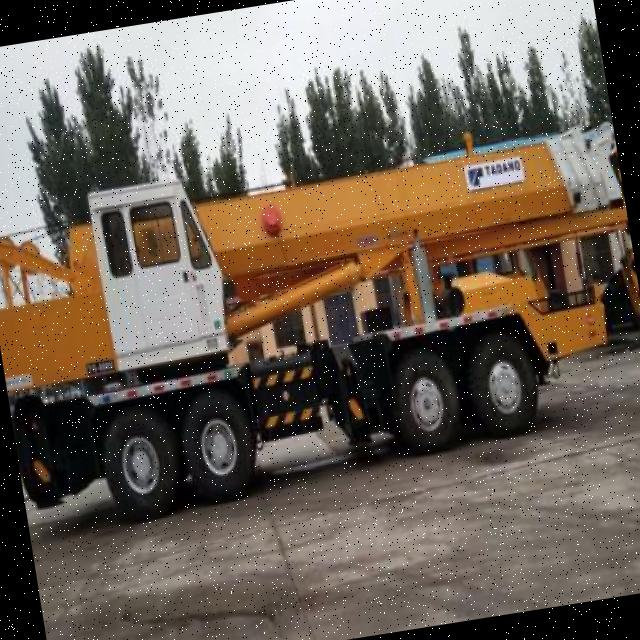Mobile Crane: (0, 112, 640, 530)
